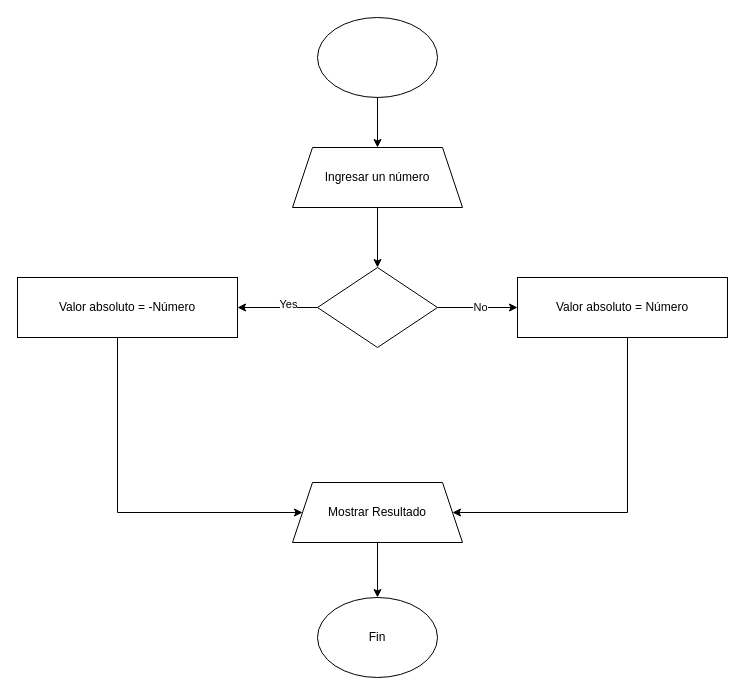
Some shapes in this 745 by 695 pixel diagram are drawn without their labels. The shapes that lost their labels are listed below. From the top down, each one's centre as x and y in pixels, then its label:
At pixel 377 57: "Inicio".
At pixel 377 307: "Número < 0?".
